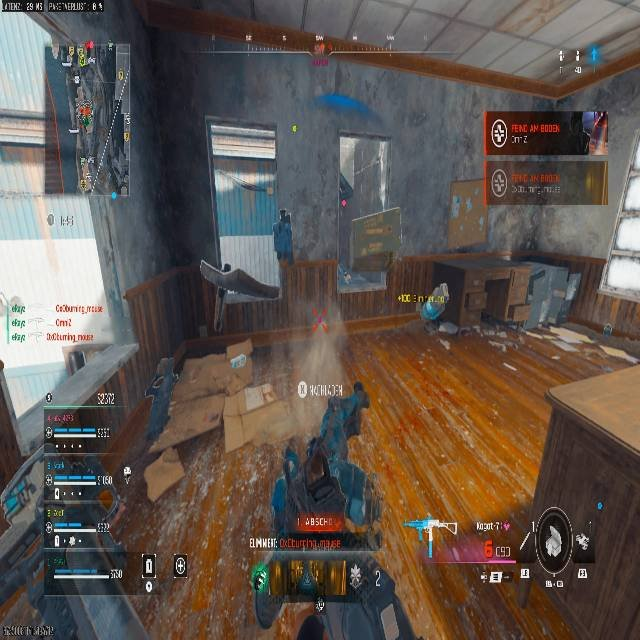player: (0, 418, 153, 640), (273, 206, 293, 263), (343, 271, 351, 287)
